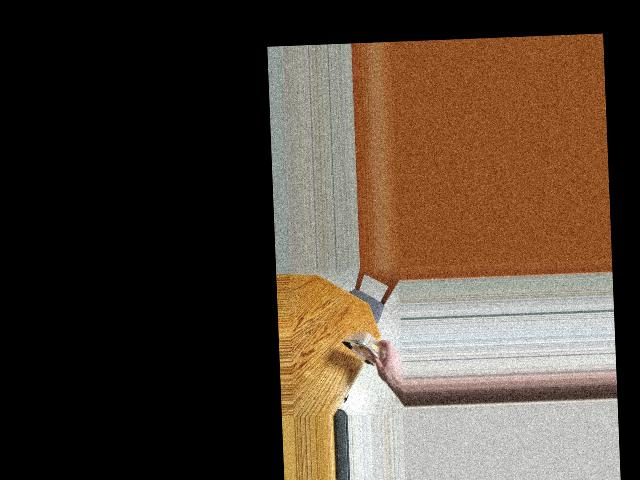cheese: (346, 321, 388, 372)
